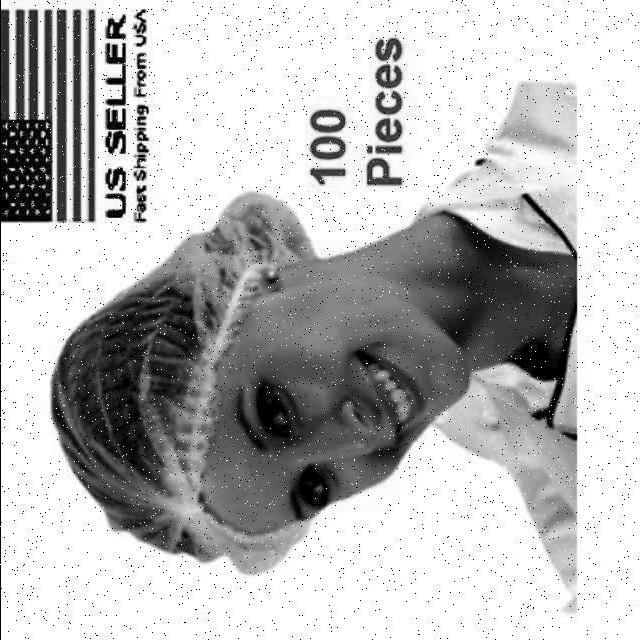no_hairnet: (309, 321, 433, 461)
